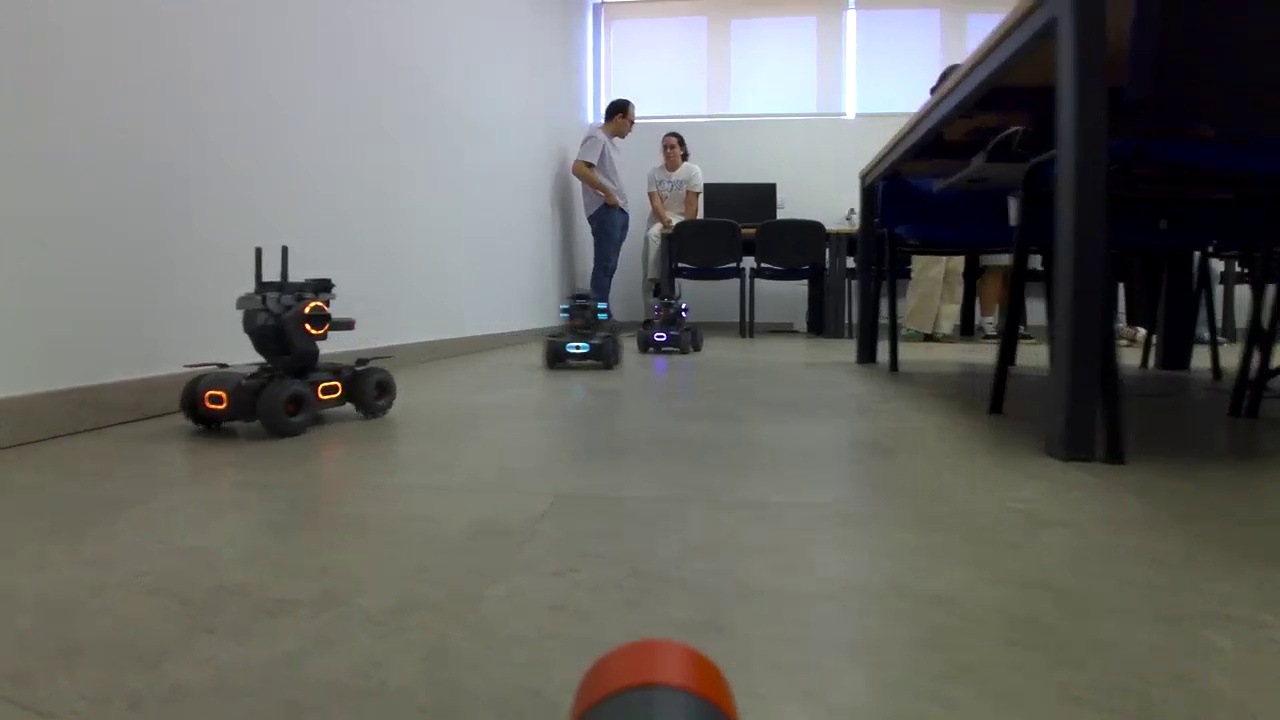robot: (180, 282, 398, 430), (550, 292, 620, 375), (636, 306, 698, 354)
